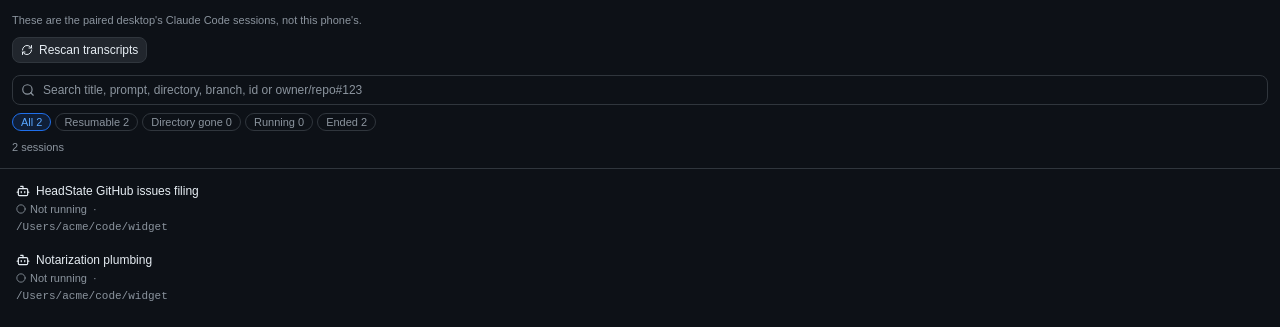
Test: the companion offers the view and hides only the Local actions › filters the phone's rows from that search box
The width and height of the screenshot is (1280, 327).
Check: the button "Notarization plumbing Not running · /Users/acme/code/widget" is shown, box x1=8 y1=246 x2=1272 y2=310
Replace the text in the search field named "search claude code sessions" with "notarization" at (651, 90), box x1=43 y1=76 x2=1259 y2=104
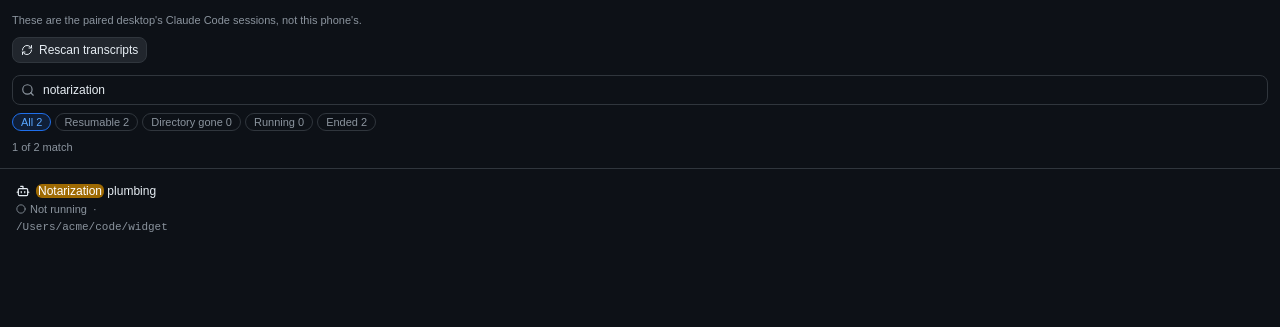
Check: the button "Notarization plumbing Not running · /Users/acme/code/widget" is shown, box x1=8 y1=176 x2=1272 y2=242
Check: the button "HeadState GitHub issues filing" is gone
